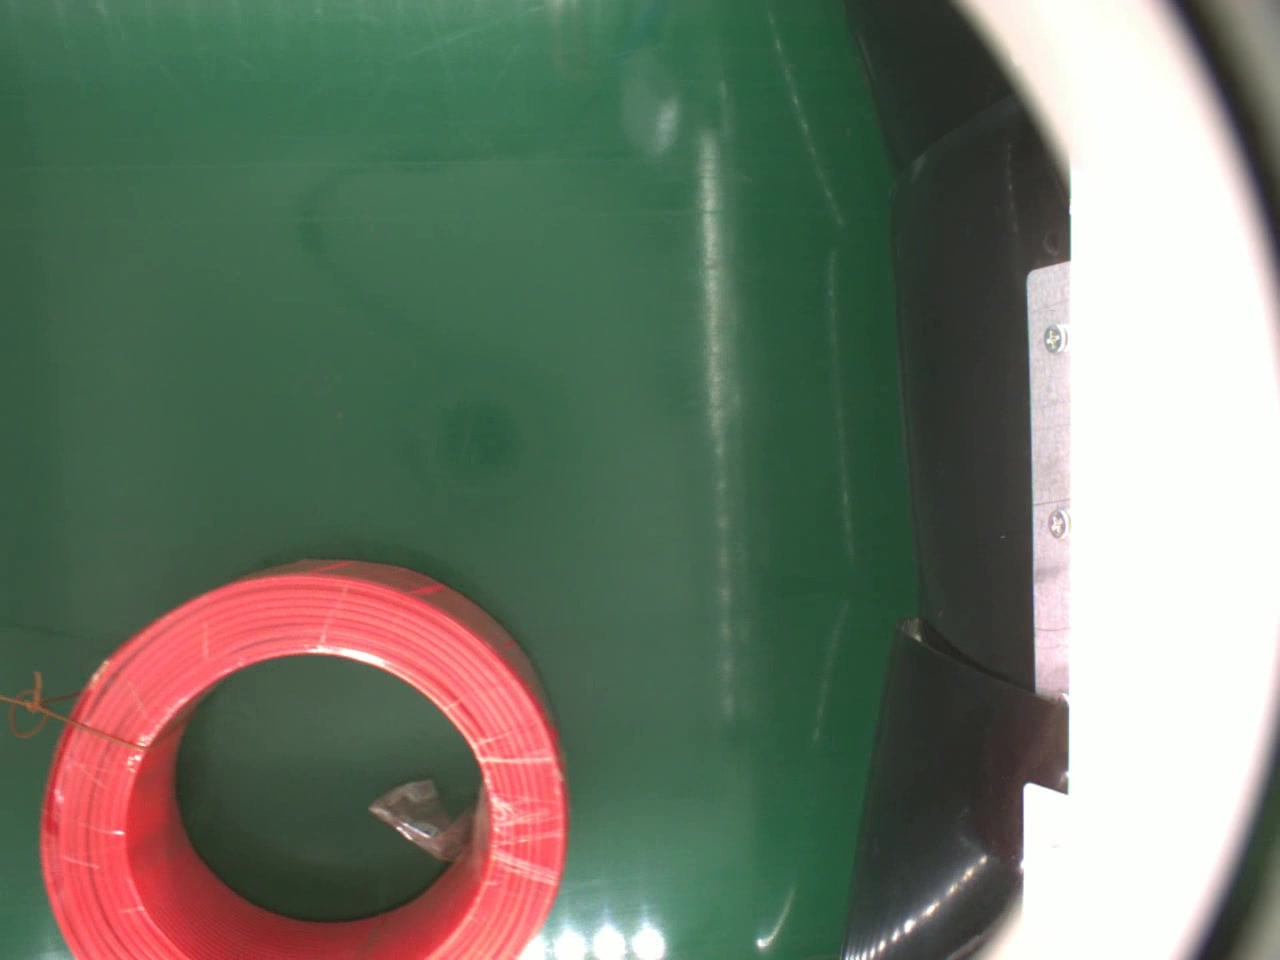red: (41, 554, 566, 960)
